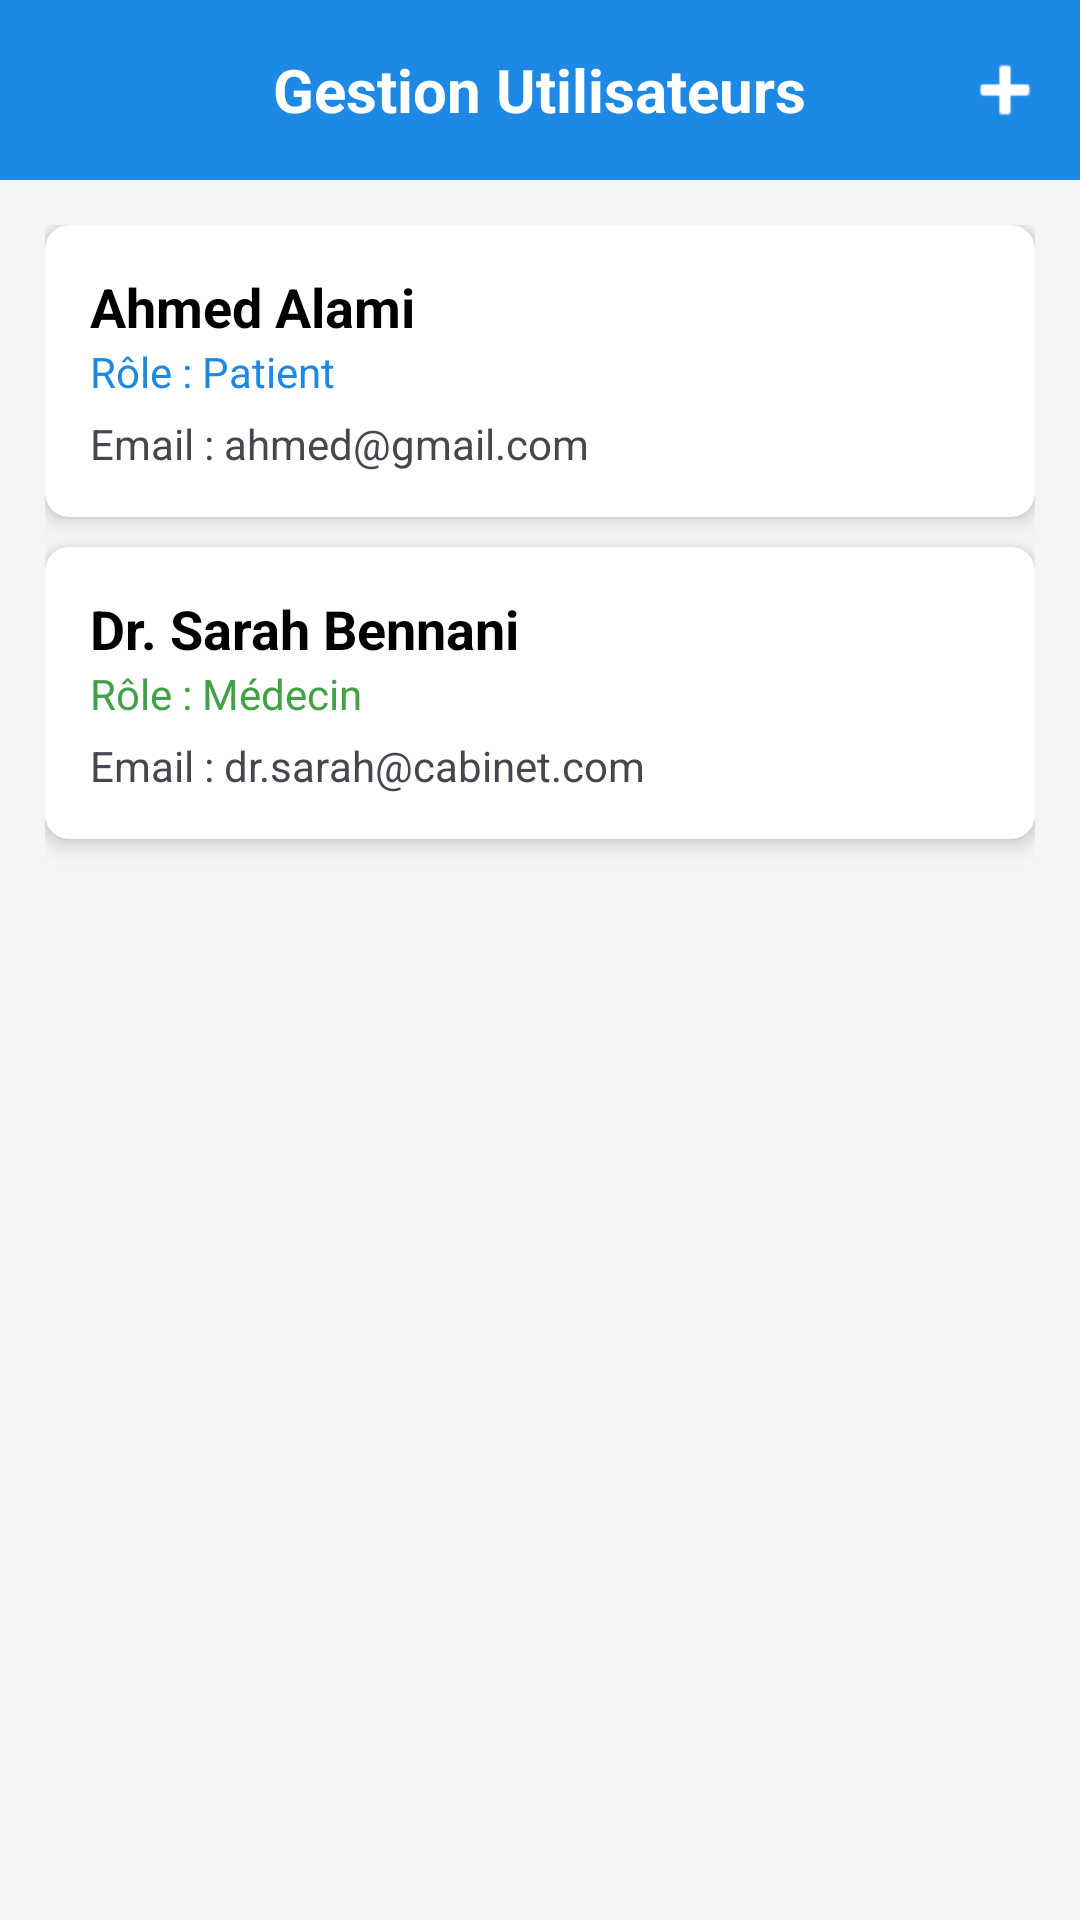

Point at icon controls on the screen. Image size 1080x1920, points as point (x, y).
add: point (1005, 90)
